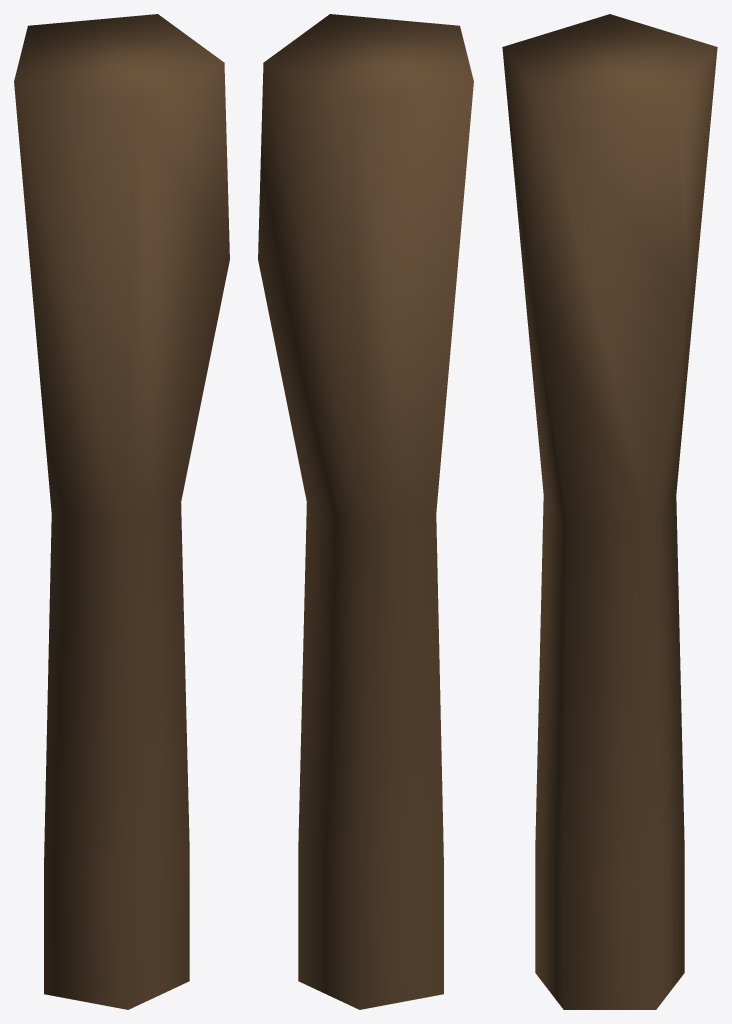
Rendered from animal_megaspider_leg.obj.
3 renders of one model, left to right at view 1: azimuth 30°, elevation 25°; view 2: azimuth 150°, elevation 25°; view 3: azimuth 270°, elevation 25°, orthographic.
Visible parts, largest first — view 1: animal_megaspider_leg; view 2: animal_megaspider_leg; view 3: animal_megaspider_leg.
Boxes of the visible parts, x1,y1,x2,y2 form: animal_megaspider_leg: (14,14,229,1009); animal_megaspider_leg: (258,14,473,1009); animal_megaspider_leg: (502,14,717,1009).
Bounding box in the file's own units: 0.0621 × 0.308 × 0.0652.
